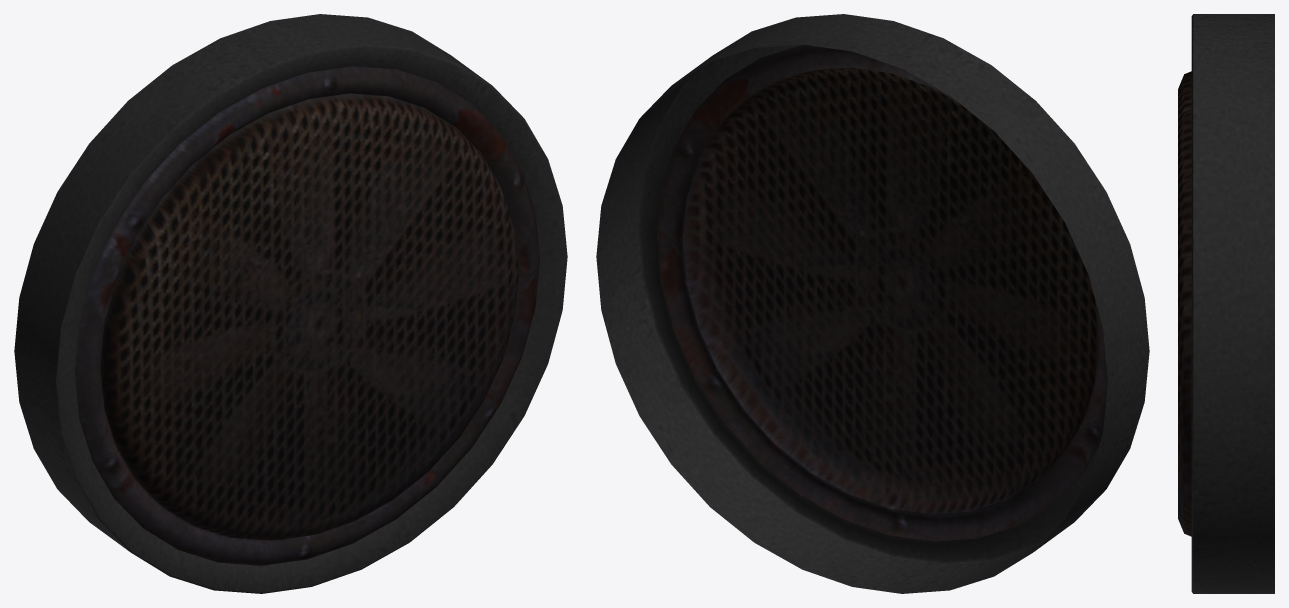
File: vent_4.obj
3 views of the same model, side by side, from view 1: azimuth 30°, elevation 25°; view 2: azimuth 150°, elevation 25°; view 3: azimuth 270°, elevation 25° (orthographic).
Visible parts, largest first — view 1: vent_4; view 2: vent_4; view 3: vent_4.
Boxes of the visible parts, left/top/right/bottom form: vent_4: left=14, top=14, right=567, bottom=593; vent_4: left=596, top=14, right=1149, bottom=593; vent_4: left=1178, top=14, right=1274, bottom=593.
Bounding box in the file's own units: 1.1 × 1.1 × 0.1838.
